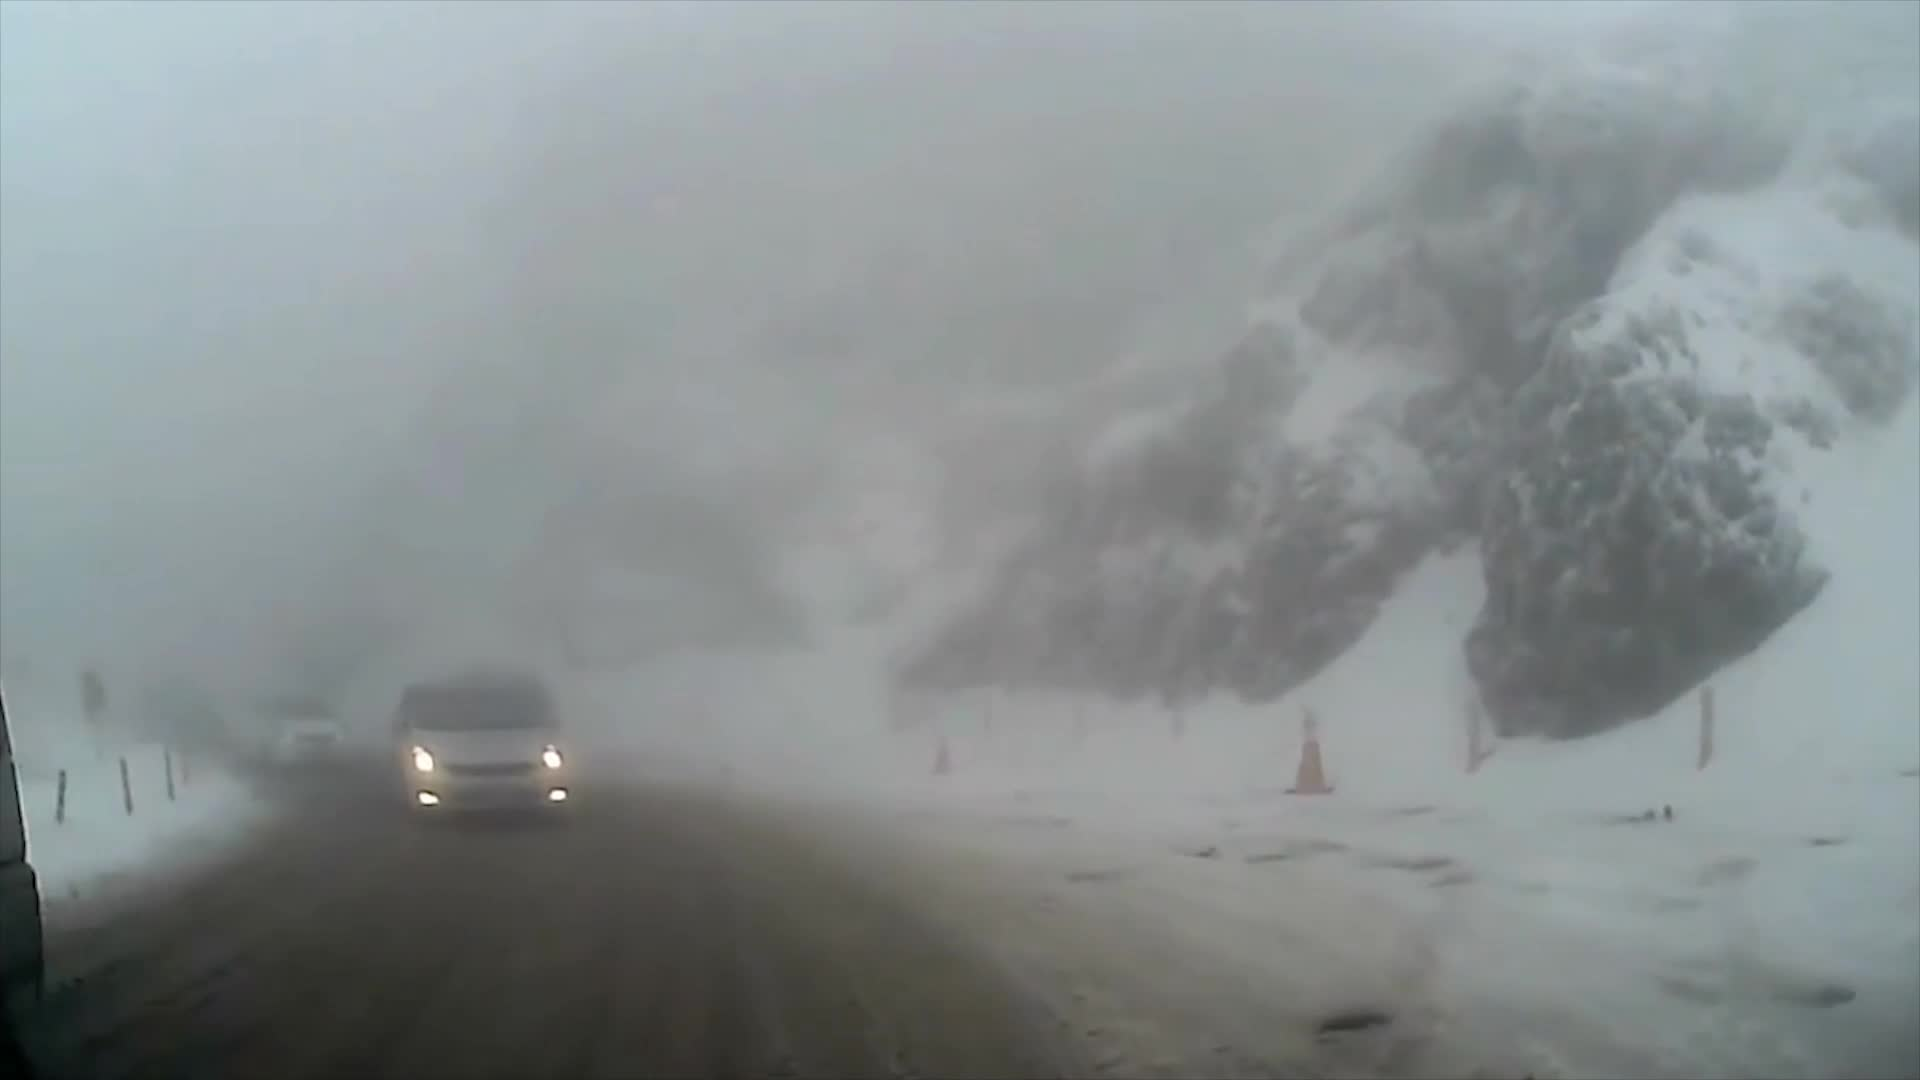vehicle: (386, 676, 568, 829), (0, 688, 46, 1079)
